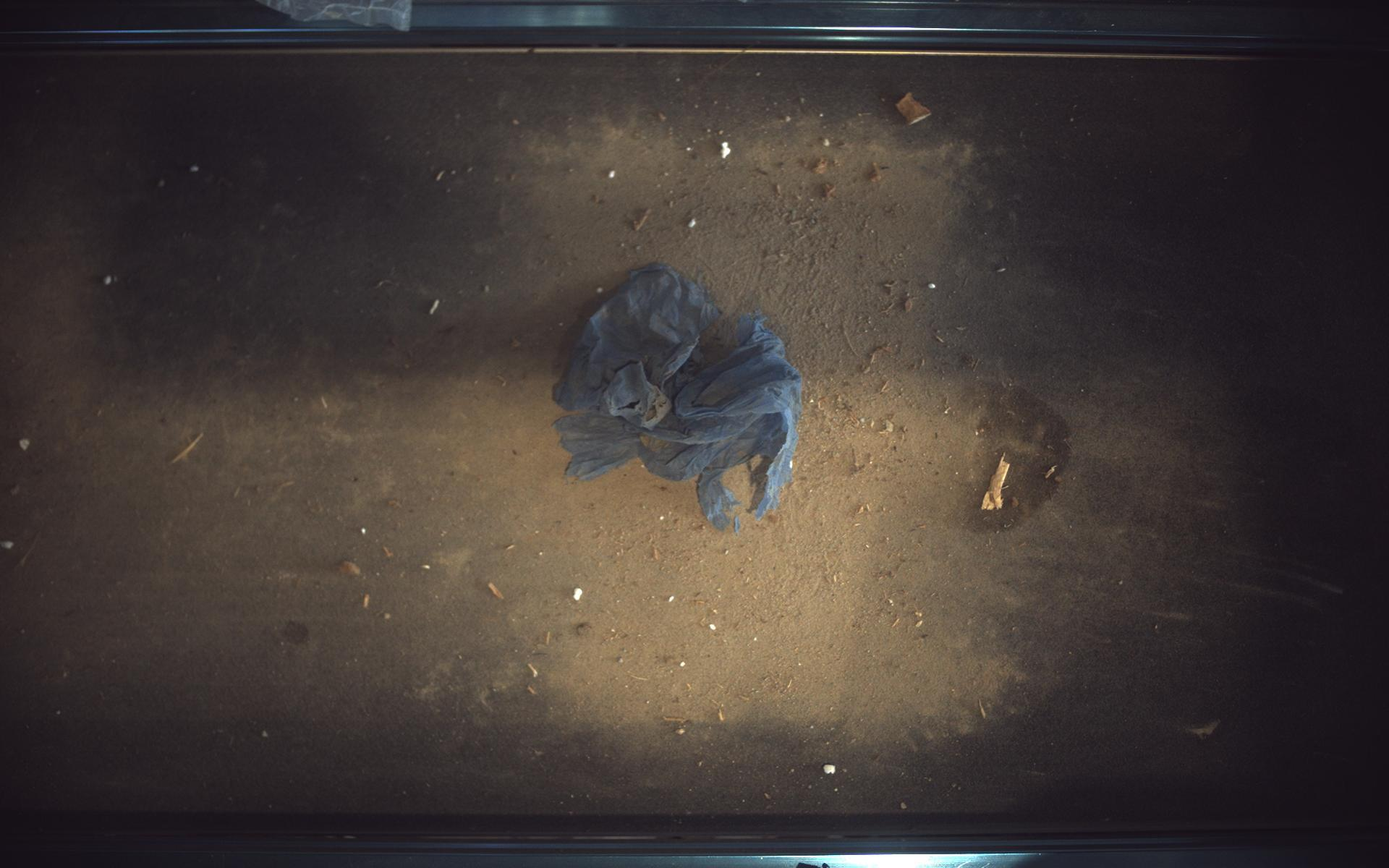general_w: (555, 264, 803, 530)
